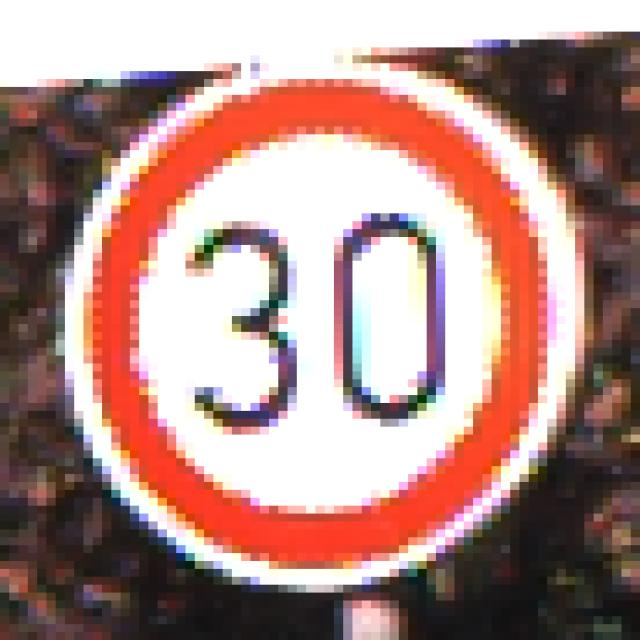Speed Limit -30-: (51, 51, 580, 581)
